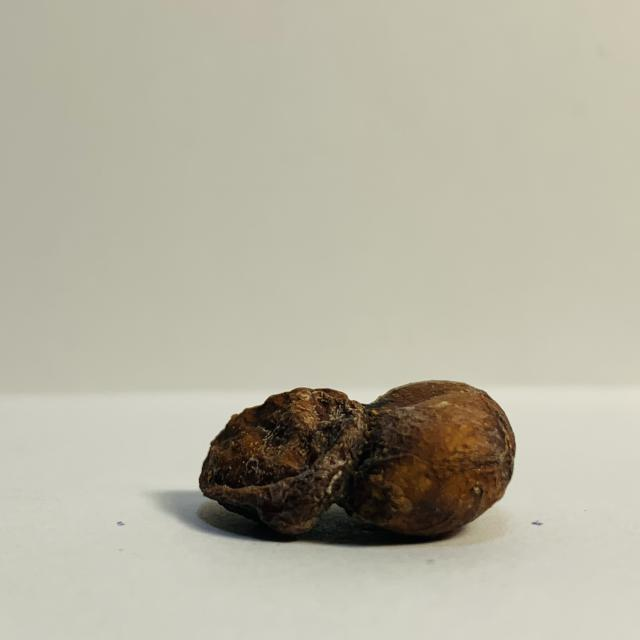Agglomerated_cocoabeans: (67, 354, 575, 570)
